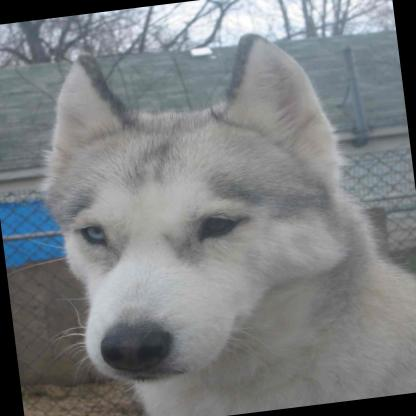Eskimo_dog: (19, 17, 416, 416)
